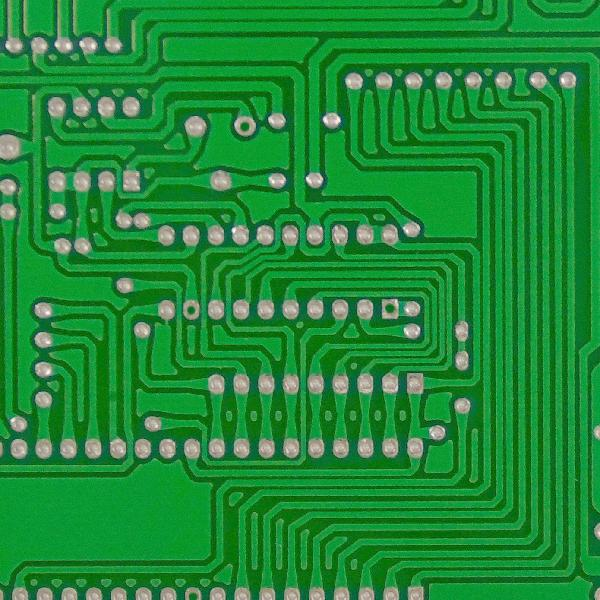missing_hole: (374, 296, 402, 324), (232, 114, 259, 136), (180, 299, 203, 322), (181, 585, 206, 599)
